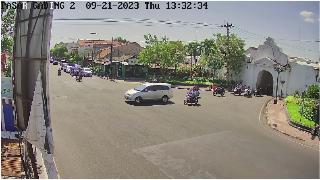mobil: (126, 81, 176, 106)
motor: (184, 90, 202, 108), (212, 82, 225, 99), (233, 81, 244, 99), (242, 86, 254, 98)
